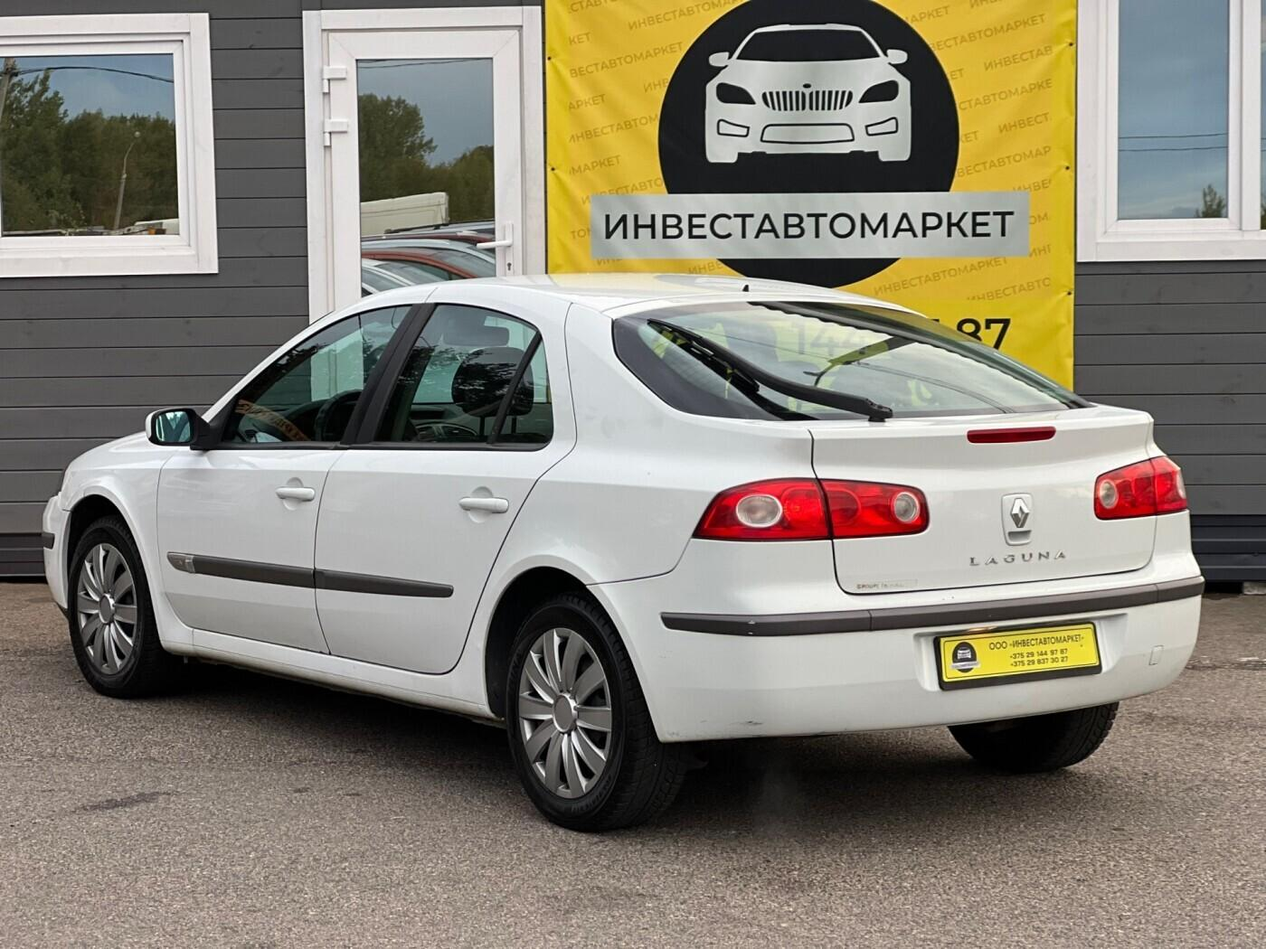Laguna_2005-2007: (32, 269, 1216, 816)
